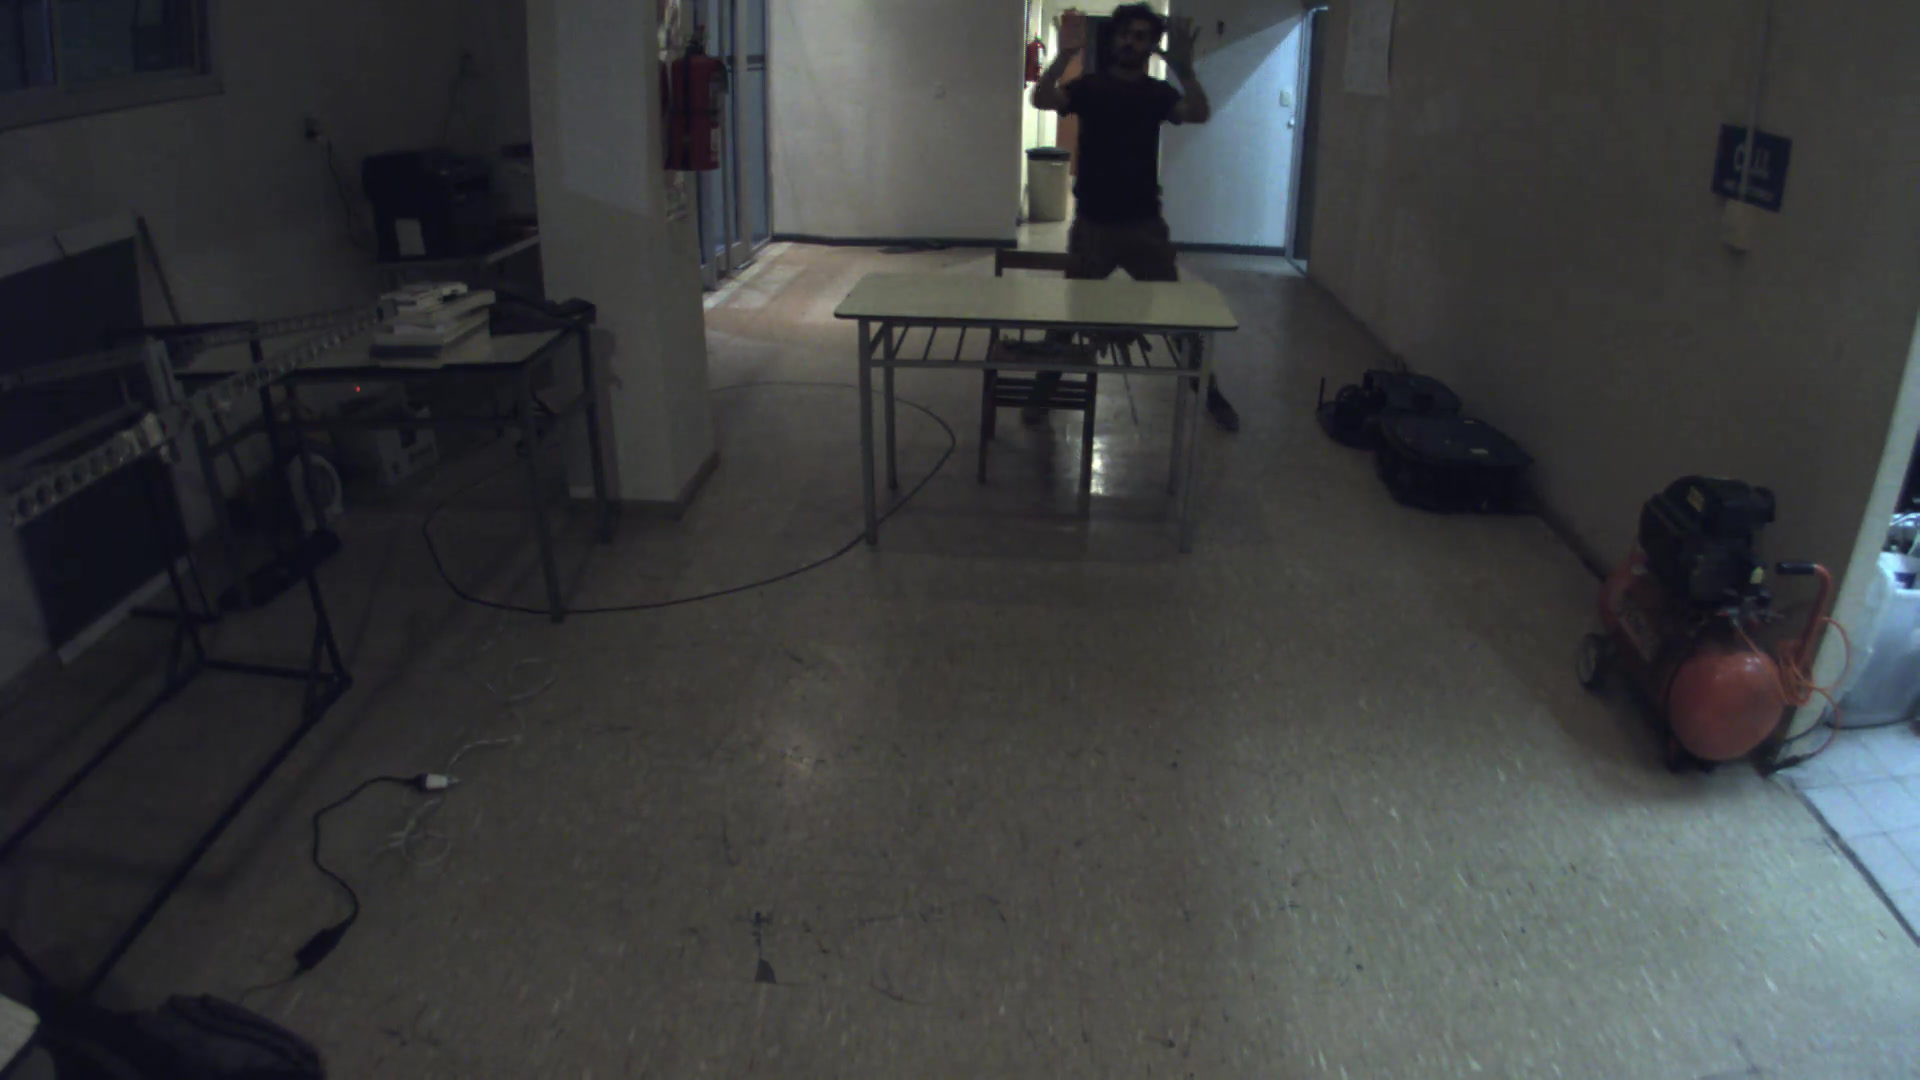hand: (1146, 11, 1221, 80), (1048, 5, 1096, 61)
